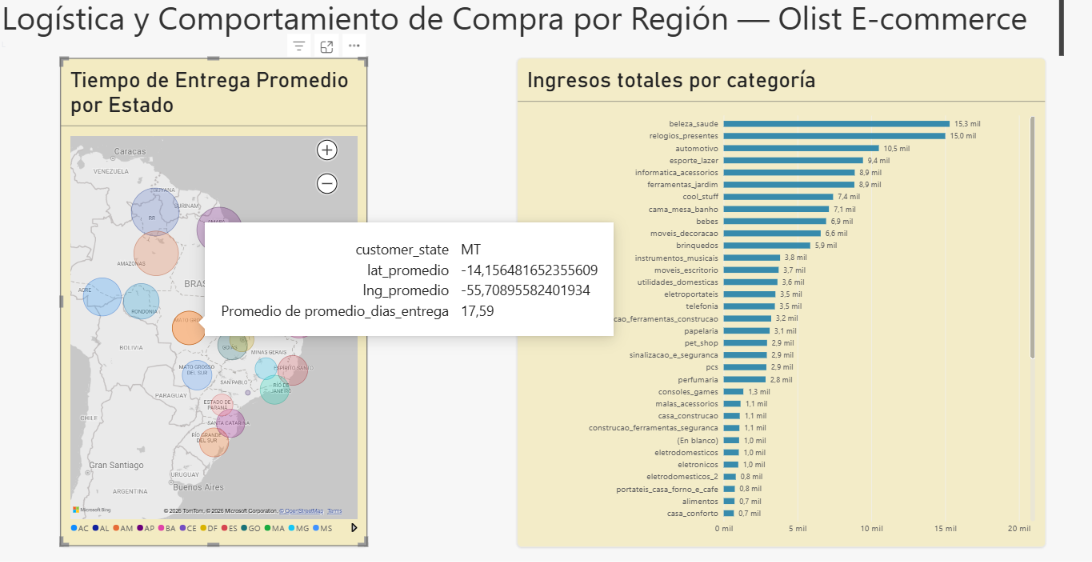

Layout of this report page (visuals, bound fields, positions):
{"tool":"powerbi","page":{"name":"Página 2","canvas":[1920,1080],"ordinal":1},"visuals":[{"type":"map","title":"Tiempo de Entrega Promedio por Estado","fields":{"Series":["Consulta.customer_state"],"Size":["Avg(Consulta.promedio_dias_entrega)"],"X":["Consulta.lng_promedio"],"Y":["Consulta.lat_promedio"]},"box":[194.9,189.7,512.8,815.4],"z":0},{"type":"barChart","title":"Ingresos totales por categoría  ","fields":{"Category":["Consulta (2).categoria"],"Y":["Sum(Consulta (2).ingresos_totales)"]},"box":[959,189.7,882.1,816.4],"z":1},{"type":"textbox","box":[97.4,84.6,1774.4,105.1],"z":2}]}

Visuals, with their boxes on the page's 1920x1080 design canvas (x1, y1, x2, y2). These are canvas units, not pixel positions in the 1092x562 screenshot, which may show the page scaled, cropped or inside an application window:
"Tiempo de Entrega Promedio por Estado" map: <box>195,190,708,1005</box>
"Ingresos totales por categoría  " barChart: <box>959,190,1841,1006</box>
textbox: <box>97,85,1872,190</box>
